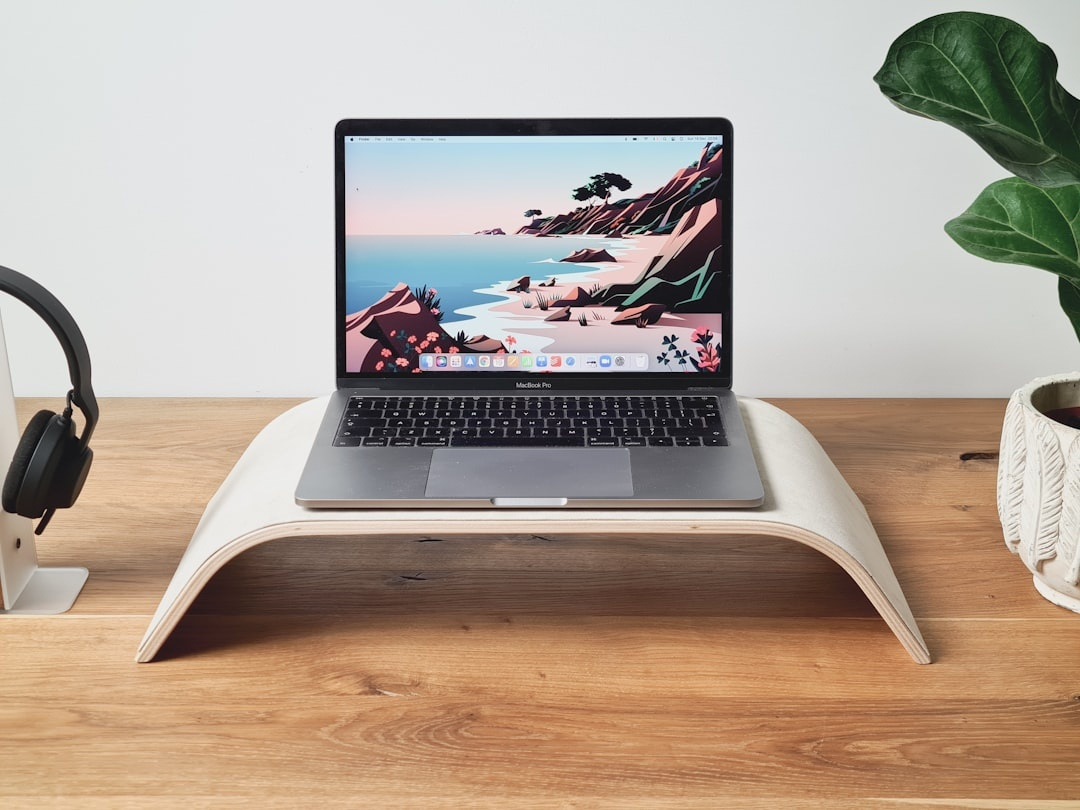laptop: (299, 90, 784, 524)
